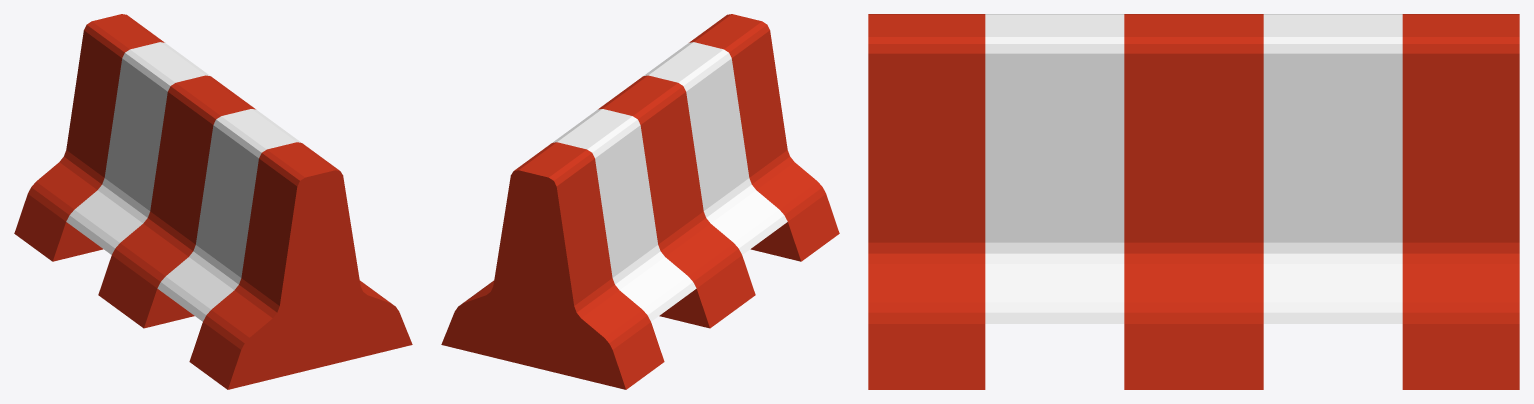
Rendered from Bollard.fbx.
3 renders of one model, left to right at view 1: azimuth 30°, elevation 25°; view 2: azimuth 150°, elevation 25°; view 3: azimuth 270°, elevation 25°, orthographic. The views are drawn at different scales.
Parts seen in each view (by area): view 1: Cube; view 2: Cube; view 3: Cube.
Boxes of the visible parts, box(x1,y1,x2,y2) form: Cube: box(14, 14, 412, 389); Cube: box(441, 14, 839, 389); Cube: box(868, 14, 1519, 389).
Size of the model in its own units: 200 by 200 by 400.
